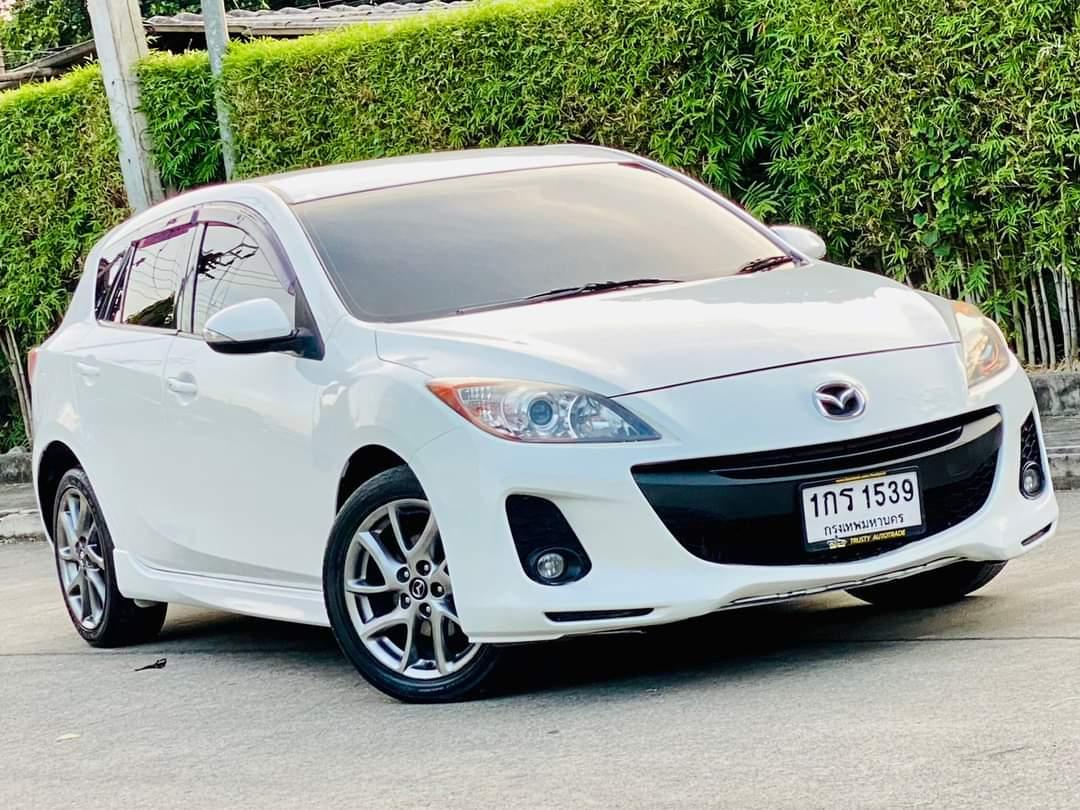license-plate: (799, 466, 927, 554)
